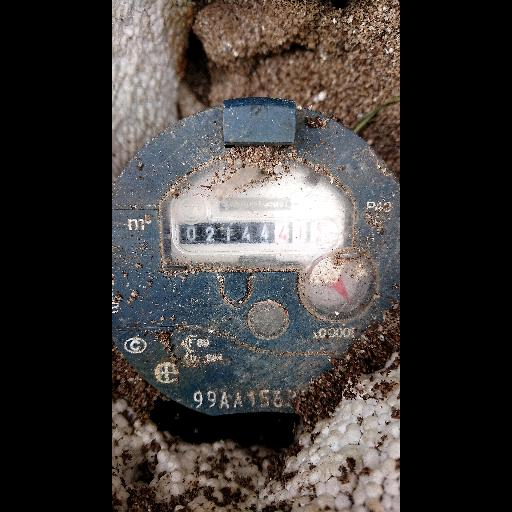0: (182, 224, 198, 245)
1: (222, 223, 236, 244), (296, 224, 306, 243)
2: (202, 223, 219, 244)
4: (310, 220, 326, 243), (239, 223, 254, 244), (258, 223, 272, 243), (277, 223, 289, 243)
border_water_meter_number: (175, 218, 339, 252)
